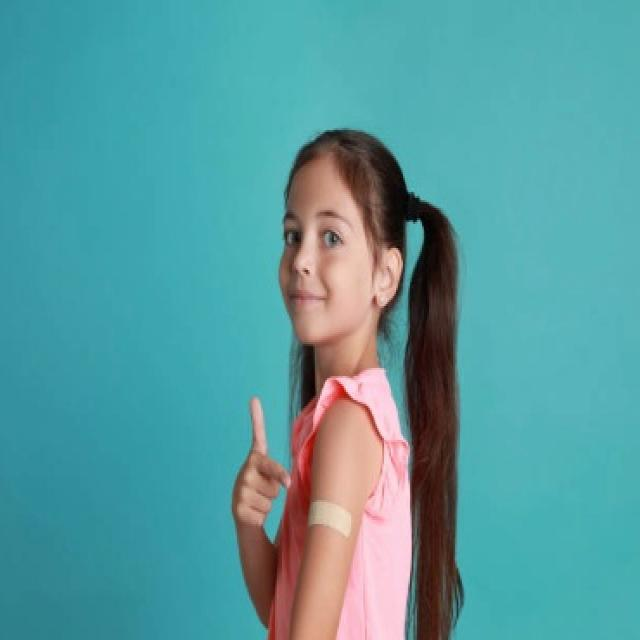child: (224, 117, 466, 640)
